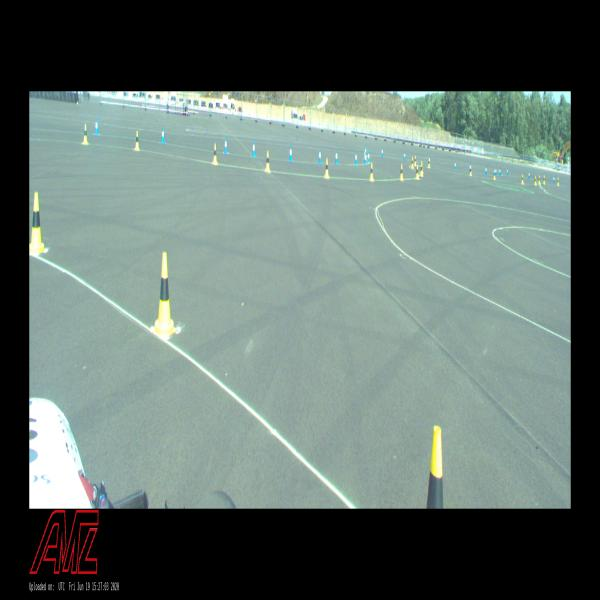blue_cone: (94, 118, 99, 134), (251, 141, 256, 156), (162, 127, 166, 143), (224, 137, 228, 153), (289, 146, 293, 161), (335, 149, 338, 164), (318, 149, 321, 163), (367, 151, 370, 162), (355, 151, 357, 164), (364, 151, 366, 164), (498, 168, 501, 176), (365, 146, 367, 157), (404, 151, 406, 160), (454, 161, 456, 170), (469, 163, 471, 172), (485, 166, 487, 174), (495, 168, 497, 176), (528, 172, 530, 179), (553, 175, 555, 182), (382, 148, 383, 157), (507, 168, 508, 176)
yellow_cone: (152, 253, 177, 337), (427, 426, 443, 508), (30, 192, 46, 255), (212, 143, 218, 164), (83, 124, 88, 144), (325, 159, 330, 178), (135, 131, 140, 150), (266, 152, 270, 172), (370, 163, 374, 181), (400, 164, 404, 180), (416, 165, 419, 179), (420, 162, 423, 175), (411, 157, 414, 168), (469, 166, 472, 176), (494, 169, 496, 180), (414, 156, 416, 166), (428, 158, 430, 168), (534, 176, 536, 185), (557, 177, 559, 186), (522, 174, 524, 183), (538, 176, 540, 184), (543, 176, 545, 184)
